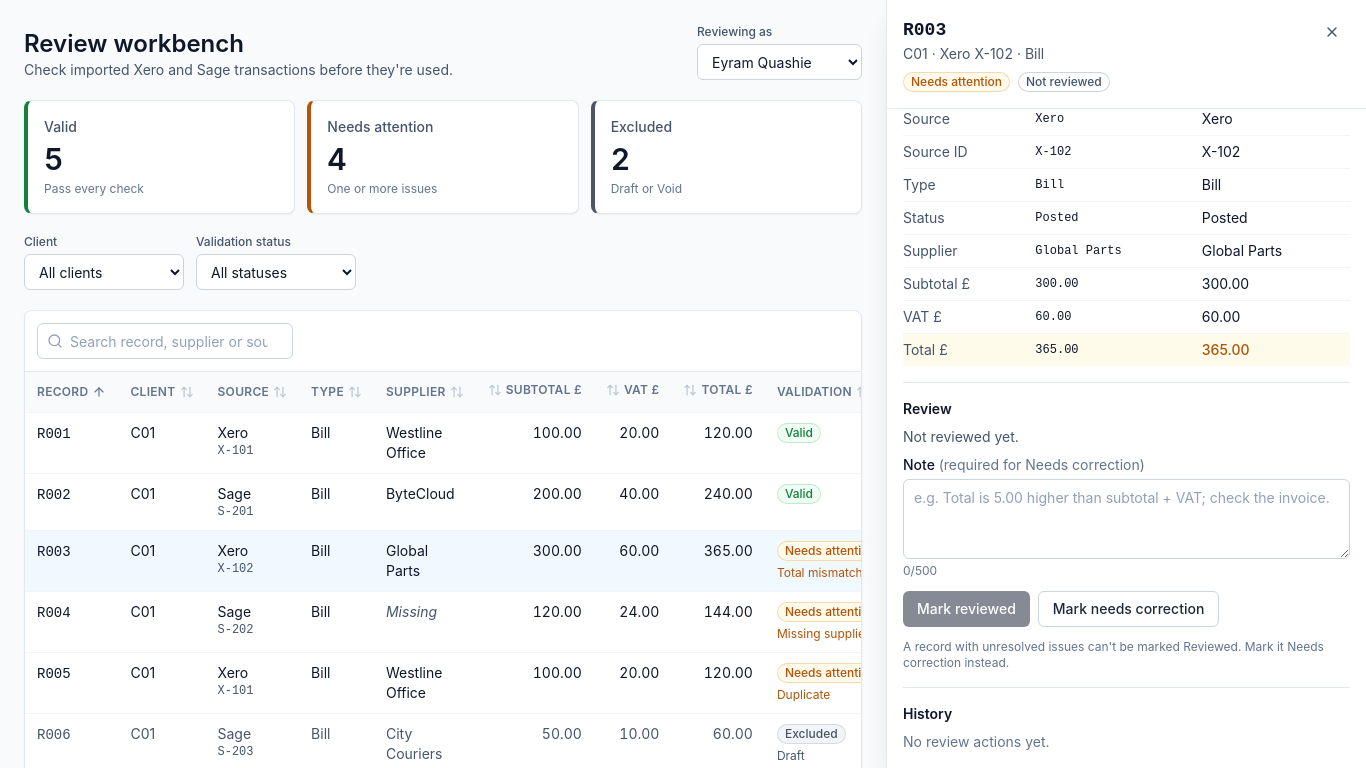
Record detail panel › reviewing › shows the API's field error on the note
(page scrolled)
Expected: the text "R001" is shown, 37,426 -> 71,442
Expected: the dropdown labelled "Reviewing as" is enabled, 697,44 -> 862,80
In the text box labelled "Note (required for Needs correction)": coordinates (1126, 519) 903,479 -> 1350,559, type "fine locally"
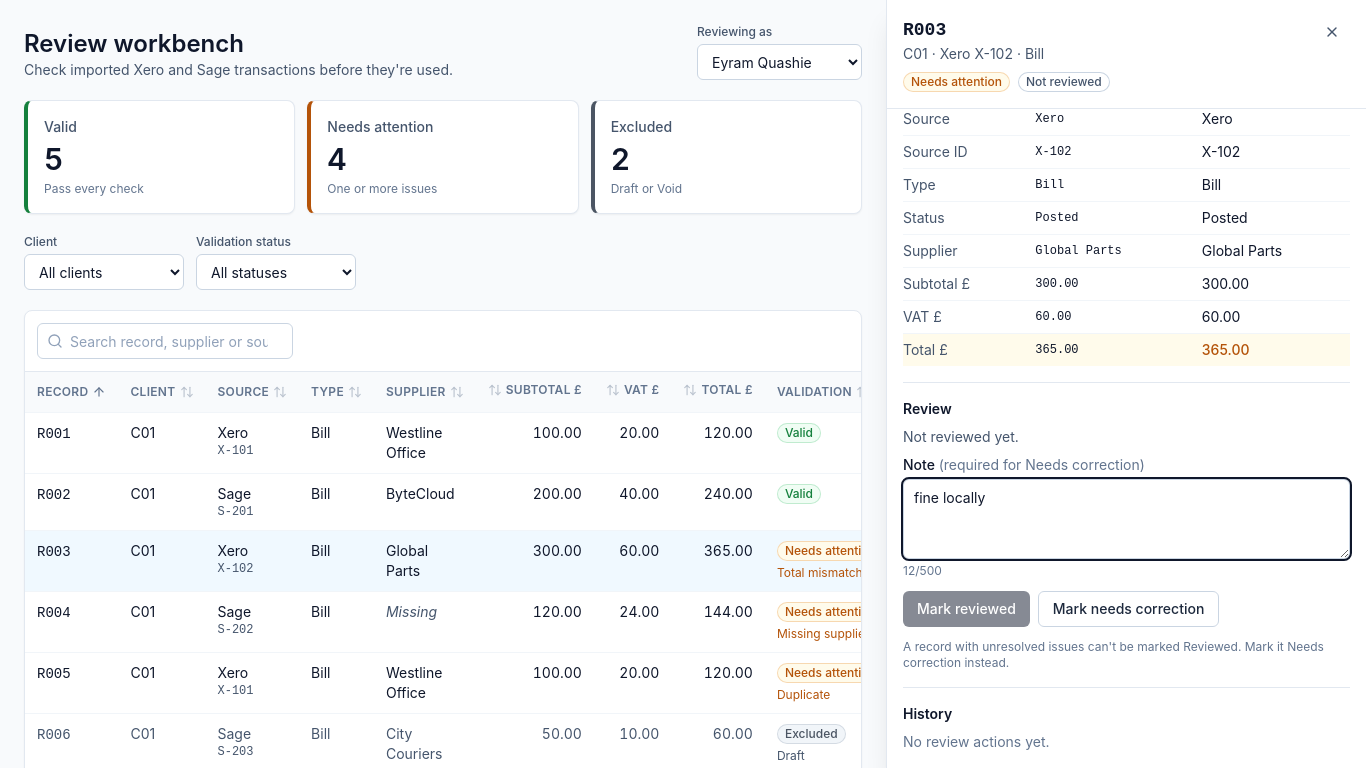
Click the button "Mark needs correction": coordinates (1129, 609) 1038,591 -> 1219,627
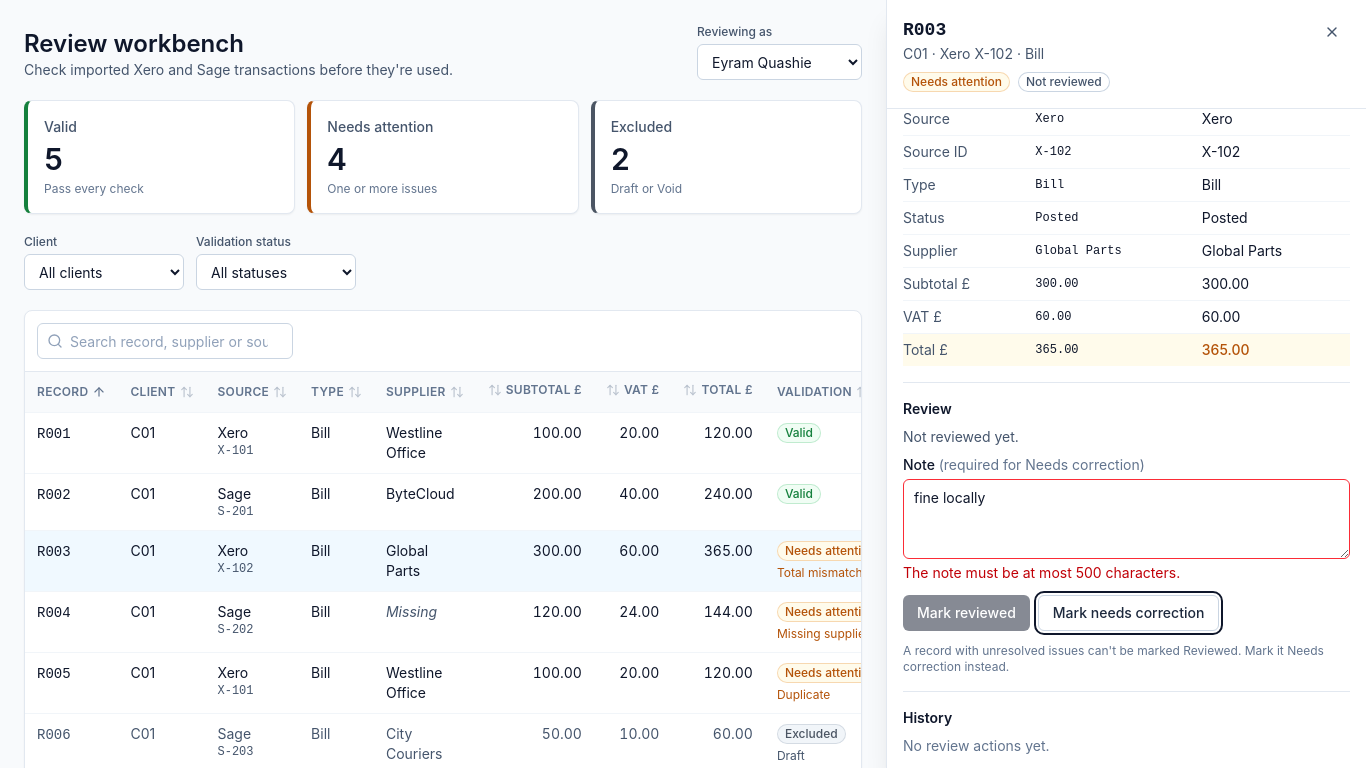
Result: the text "The note must be at most 500 characters." is shown at 903,564 -> 1180,581
